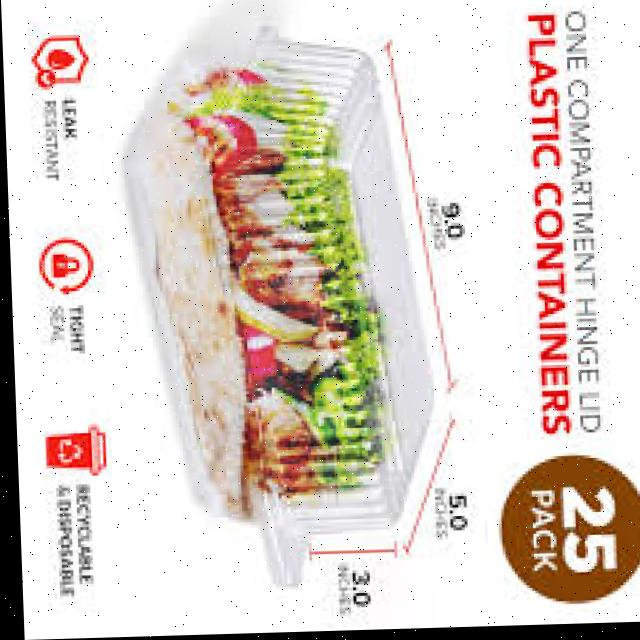disposable: (114, 17, 438, 600)
